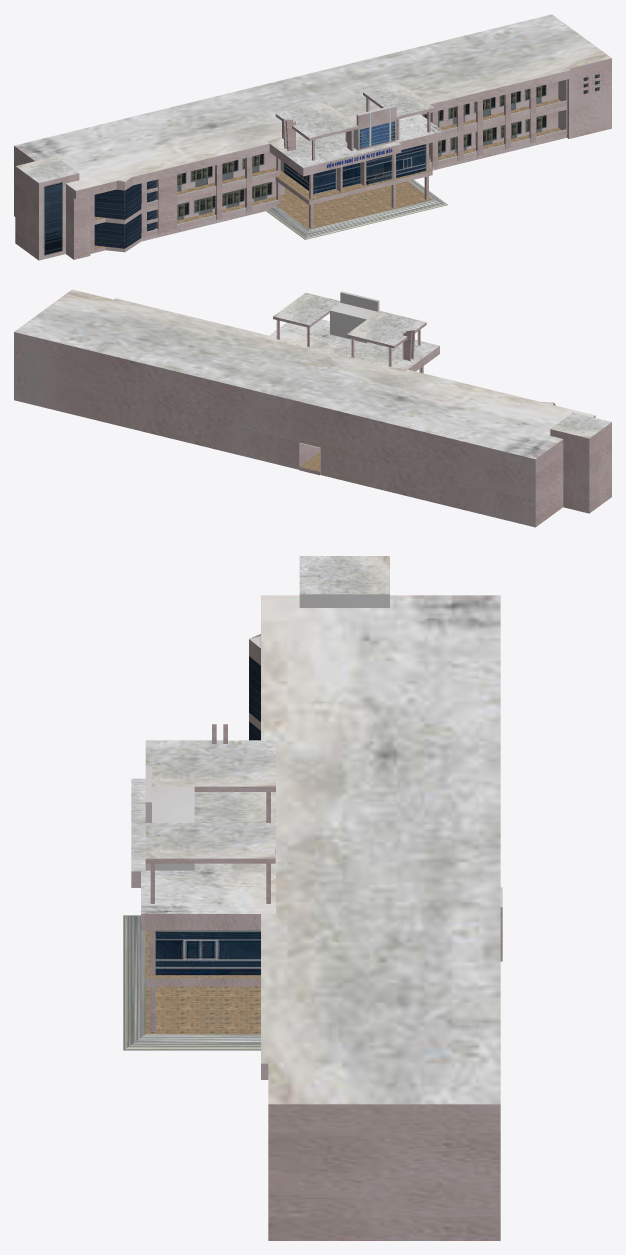
The picture shows the model from 3 angles, top to bottom: view 1: azimuth 30°, elevation 25°; view 2: azimuth 150°, elevation 25°; view 3: azimuth 270°, elevation 25°; orthographic projection. The views are drawn at different scales.
Visible parts, largest first — view 1: 5c779ff5bdd69e54386ebe94.001; view 2: 5c779ff5bdd69e54386ebe94.001; view 3: 5c779ff5bdd69e54386ebe94.001.
Boxes of the visible parts, x1=… form: 5c779ff5bdd69e54386ebe94.001: x1=14, y1=14, x2=611, y2=260; 5c779ff5bdd69e54386ebe94.001: x1=14, y1=289, x2=611, y2=527; 5c779ff5bdd69e54386ebe94.001: x1=123, y1=556, x2=502, y2=1240.
Bounding box in the file's own units: 84.01 × 15.01 × 25.19.
Materials: 1 (1 with a texture image).
